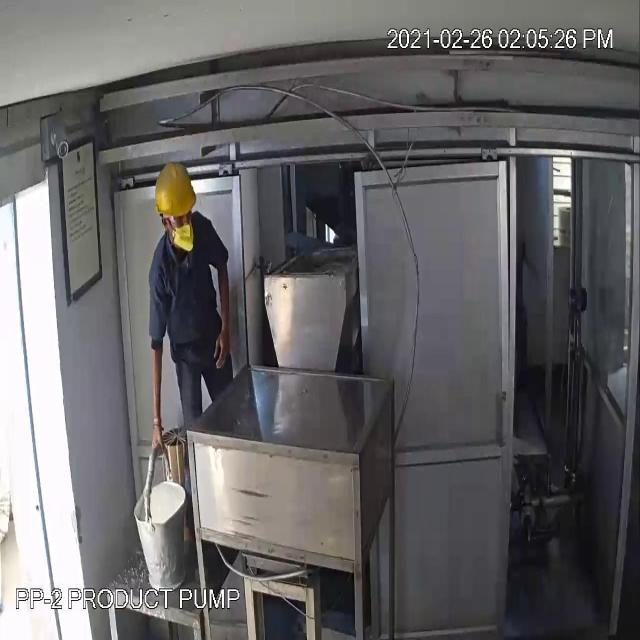helmet: (150, 158, 202, 238)
